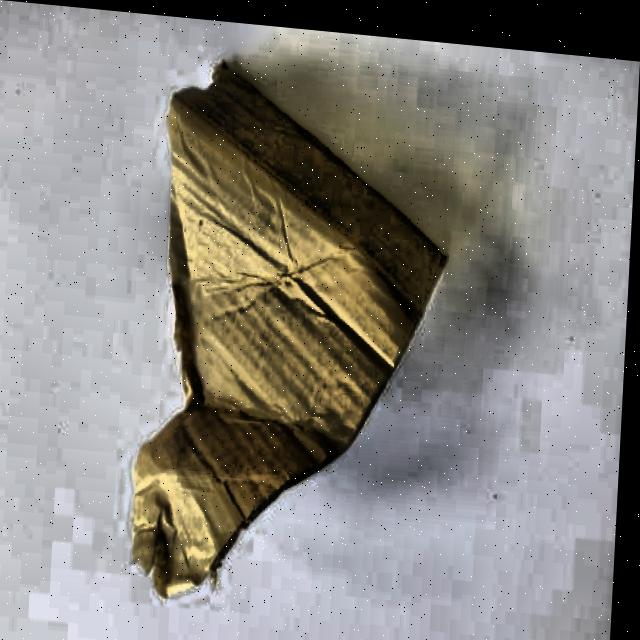cardboard: (126, 55, 458, 628)
